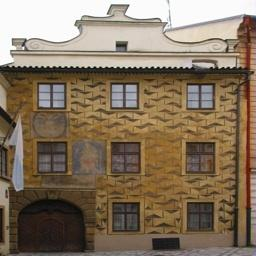building: (5, 4, 243, 235)
